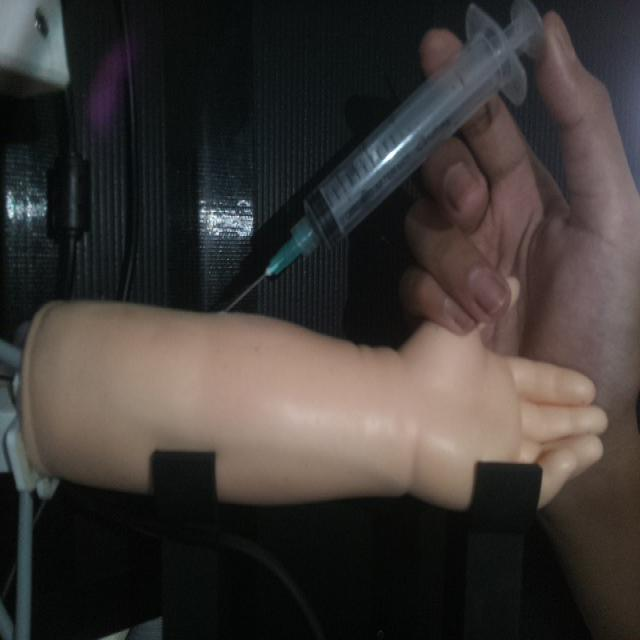Outside: (218, 0, 548, 318)
